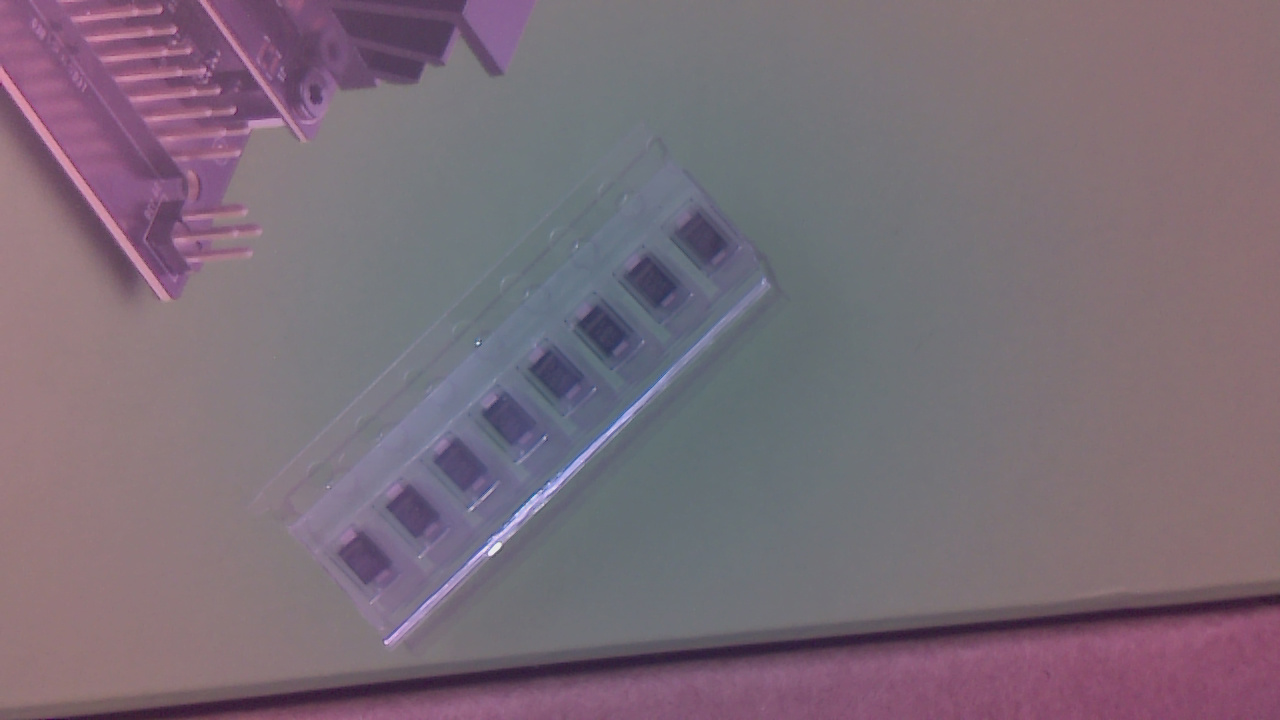Diode: (337, 532, 399, 598), (387, 485, 447, 553), (435, 438, 498, 501), (481, 391, 544, 454), (624, 254, 687, 317), (529, 350, 589, 414), (575, 306, 637, 367), (677, 214, 736, 275)
